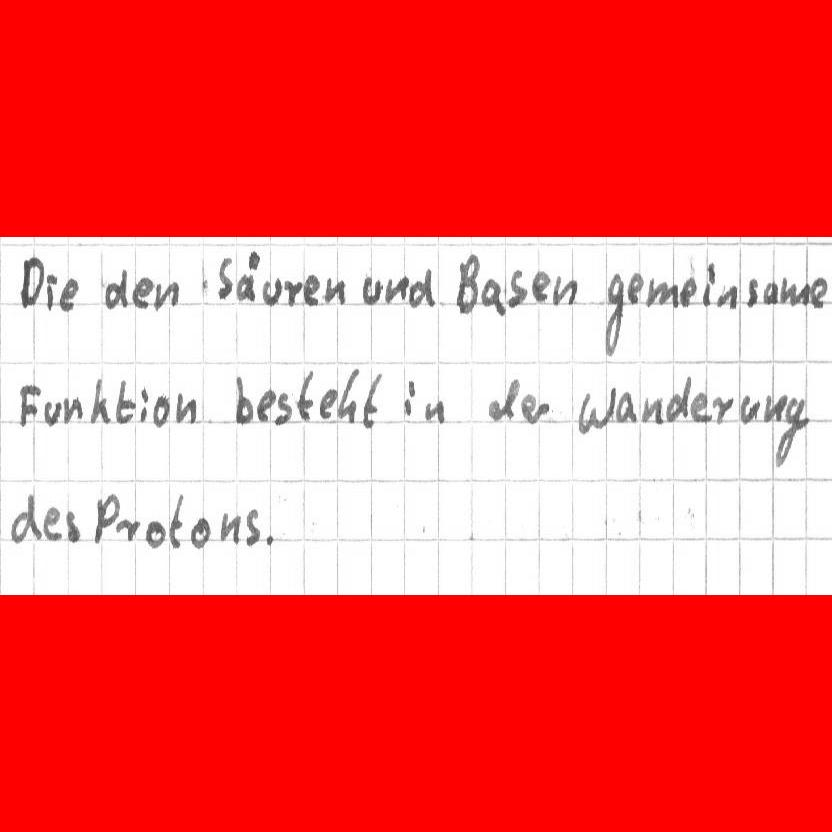Char: (774, 392, 809, 469), (601, 273, 625, 355), (454, 251, 480, 316), (485, 378, 519, 426), (576, 387, 610, 434), (9, 492, 38, 545), (360, 370, 384, 431), (92, 491, 117, 544), (103, 264, 131, 310), (338, 365, 360, 422), (665, 374, 690, 422), (19, 253, 40, 310), (231, 372, 254, 423), (237, 250, 258, 302), (411, 265, 437, 307), (296, 369, 316, 421), (17, 380, 39, 427), (90, 376, 110, 426), (481, 275, 505, 316), (168, 493, 185, 549), (551, 272, 576, 309), (647, 275, 674, 308), (521, 394, 549, 424), (507, 268, 527, 310), (216, 255, 234, 301), (762, 391, 787, 424), (781, 277, 809, 306), (115, 381, 133, 425), (614, 389, 636, 425), (255, 387, 277, 423), (383, 273, 406, 307), (217, 509, 239, 544), (155, 279, 179, 311), (42, 505, 62, 543), (175, 391, 197, 425), (640, 393, 664, 424), (242, 506, 261, 545), (322, 275, 345, 307), (710, 394, 733, 426), (59, 276, 80, 311), (360, 275, 381, 307), (262, 276, 284, 306), (132, 275, 151, 309), (64, 506, 81, 544), (530, 269, 549, 303), (401, 378, 417, 418), (189, 517, 210, 547), (626, 270, 643, 307), (273, 391, 292, 424), (423, 398, 446, 425), (318, 388, 338, 419), (302, 273, 320, 307), (65, 394, 85, 424), (144, 519, 166, 546), (690, 392, 709, 423), (702, 262, 715, 306), (740, 393, 759, 423), (42, 399, 62, 427), (742, 275, 758, 310), (678, 273, 694, 308), (152, 396, 170, 426), (717, 282, 737, 309), (812, 277, 829, 307), (284, 278, 301, 308), (118, 518, 139, 540), (45, 273, 57, 309), (137, 387, 149, 423), (762, 279, 777, 305), (263, 529, 277, 548)
